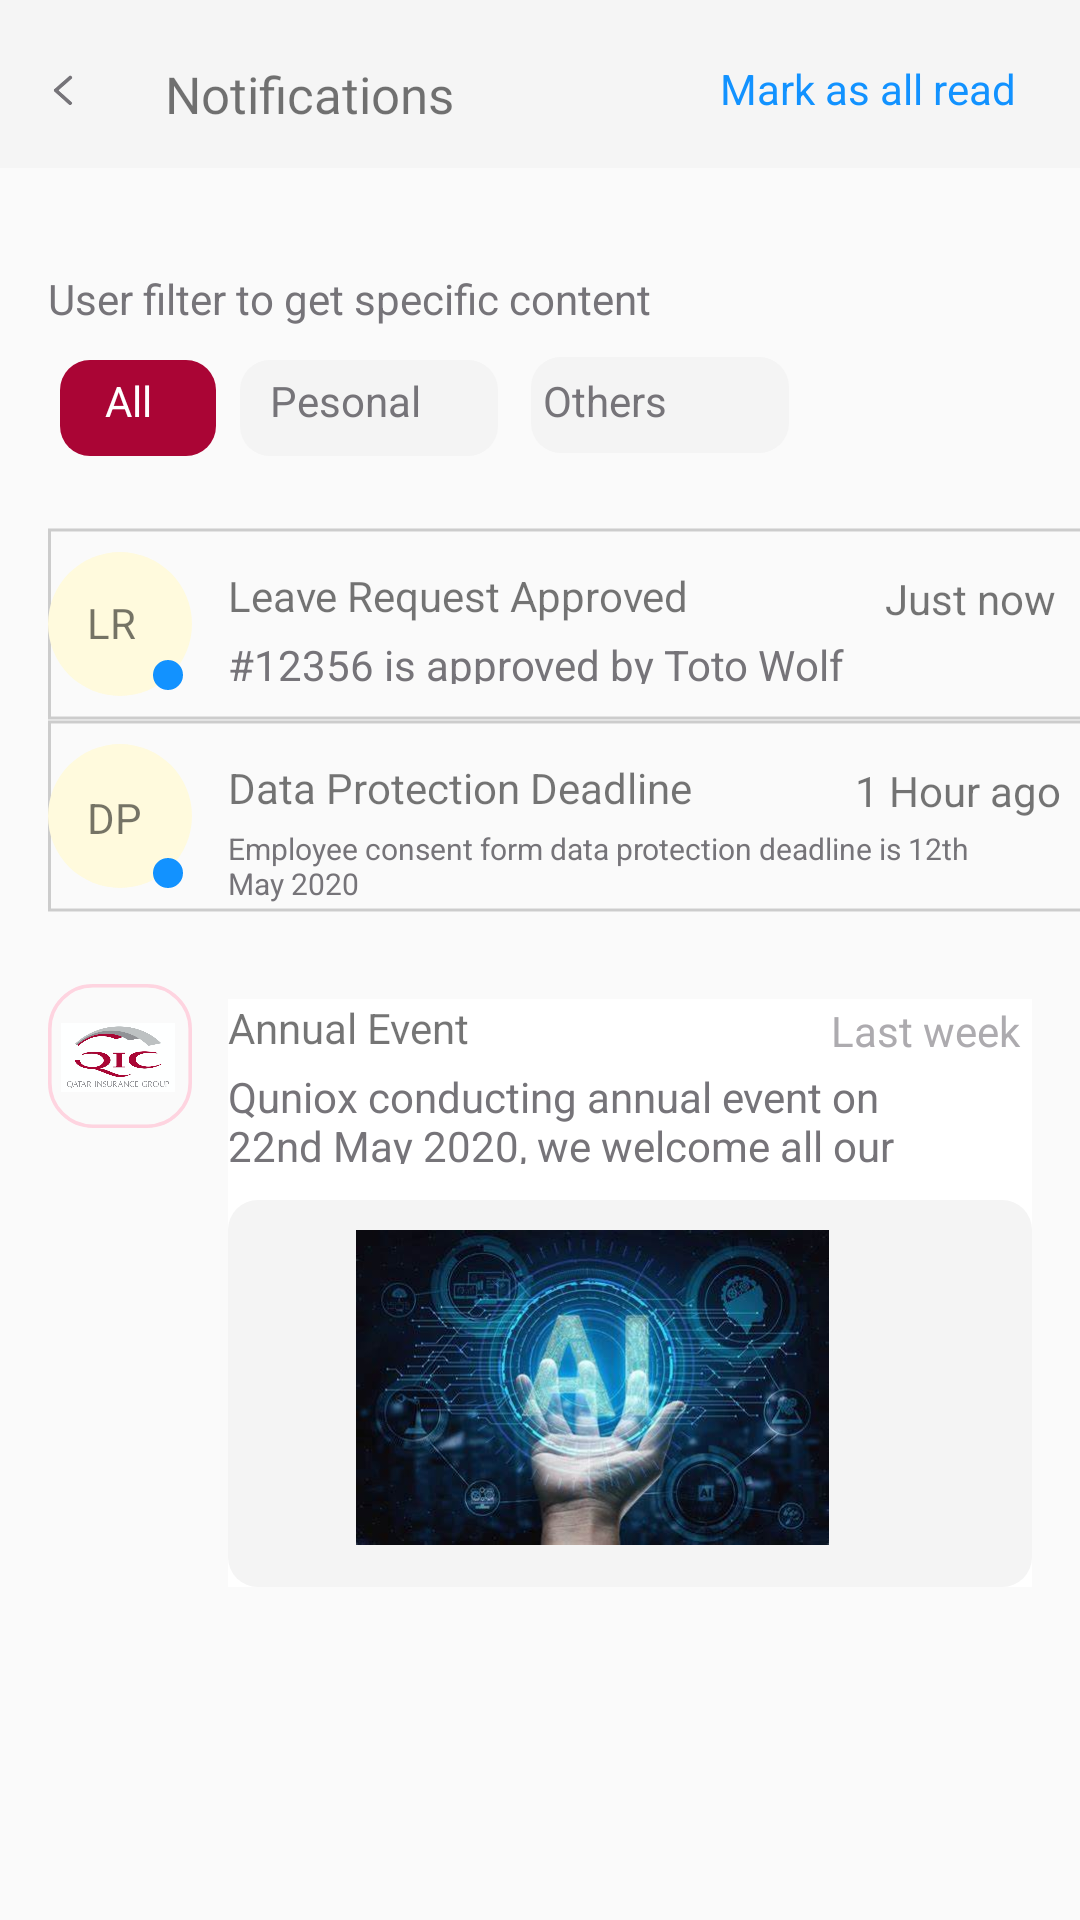

Point at icon controls on the screen. Image size 1080 × 1920, points as [x,y].
back arrow: [63,90]
